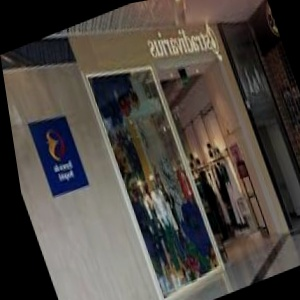stradivarius: (147, 0, 292, 45)
